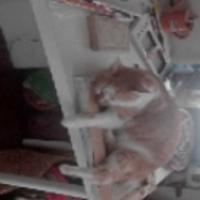asleep: (50, 52, 183, 185)
